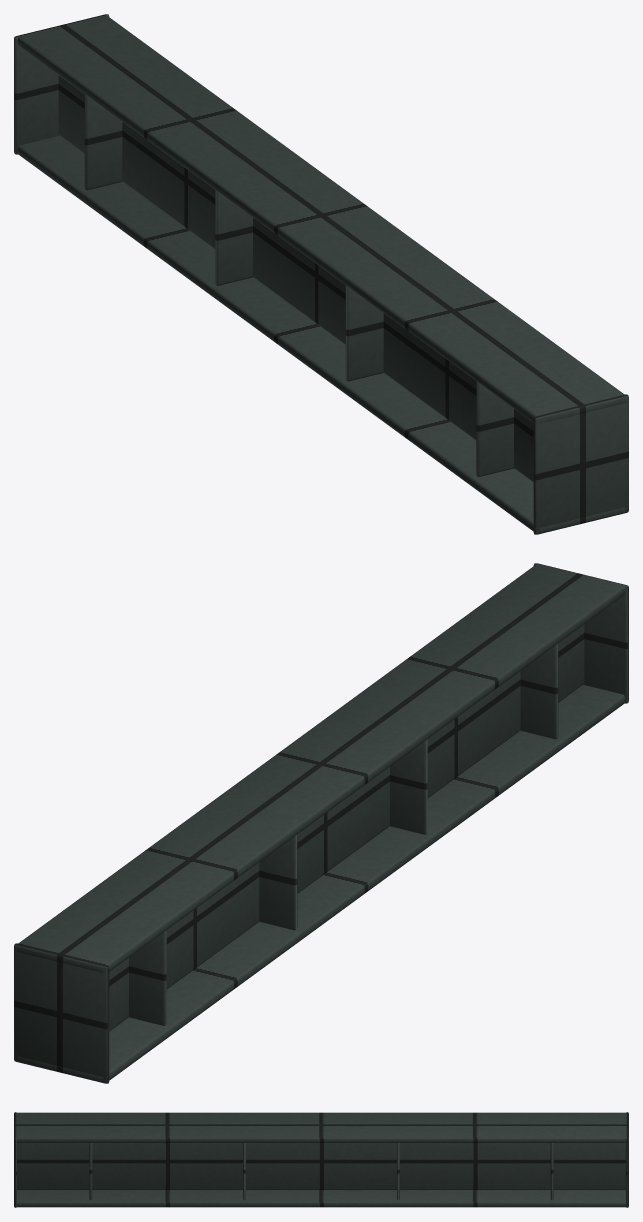
The model's file is WK_STRUCT_BEAM_A_01.glb.
The picture shows the model from 3 angles, top to bottom: view 1: azimuth 30°, elevation 25°; view 2: azimuth 150°, elevation 25°; view 3: azimuth 270°, elevation 25°; orthographic projection. The views are drawn at different scales.
Parts seen in each view (by area): view 1: WK_STRUCT_BEAM_A_01; view 2: WK_STRUCT_BEAM_A_01; view 3: WK_STRUCT_BEAM_A_01.
Boxes of the visible parts, bbox=[...] form: WK_STRUCT_BEAM_A_01: bbox=[14, 14, 628, 534]; WK_STRUCT_BEAM_A_01: bbox=[14, 563, 628, 1083]; WK_STRUCT_BEAM_A_01: bbox=[14, 1112, 628, 1207].
Size of the model in its own units: 0.42 by 0.5 by 4.
Materials: 1 (1 with a texture image).
